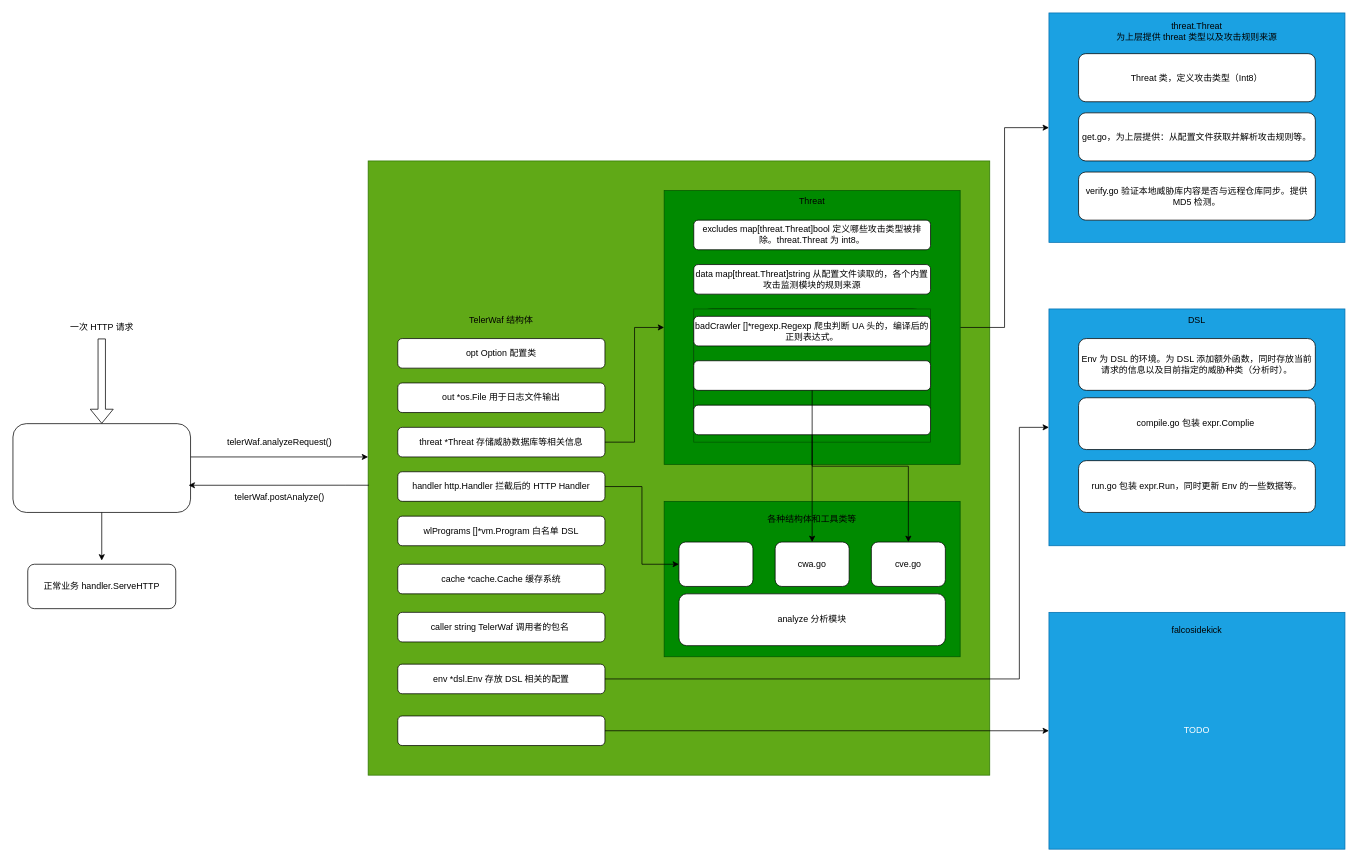
The diagram is 1358 pixels wide and 862 high, and some of its shapes have lost their labels. Here are the shapes that lost their labels. From the top down, the centre of each, then its label:
At (812,375): "cve *fastjson.Value cve 规则的 json 数据".
At (812,419): "cwa *cwa CommonWebAttack 的结构体（其中也包含类似 cve 规则 json）".
At (101,467): "Waf.Handler".
At (715,563): "handler.go".
At (501,730): "falcoSidekick falcoSidekick 和云安全相关".
